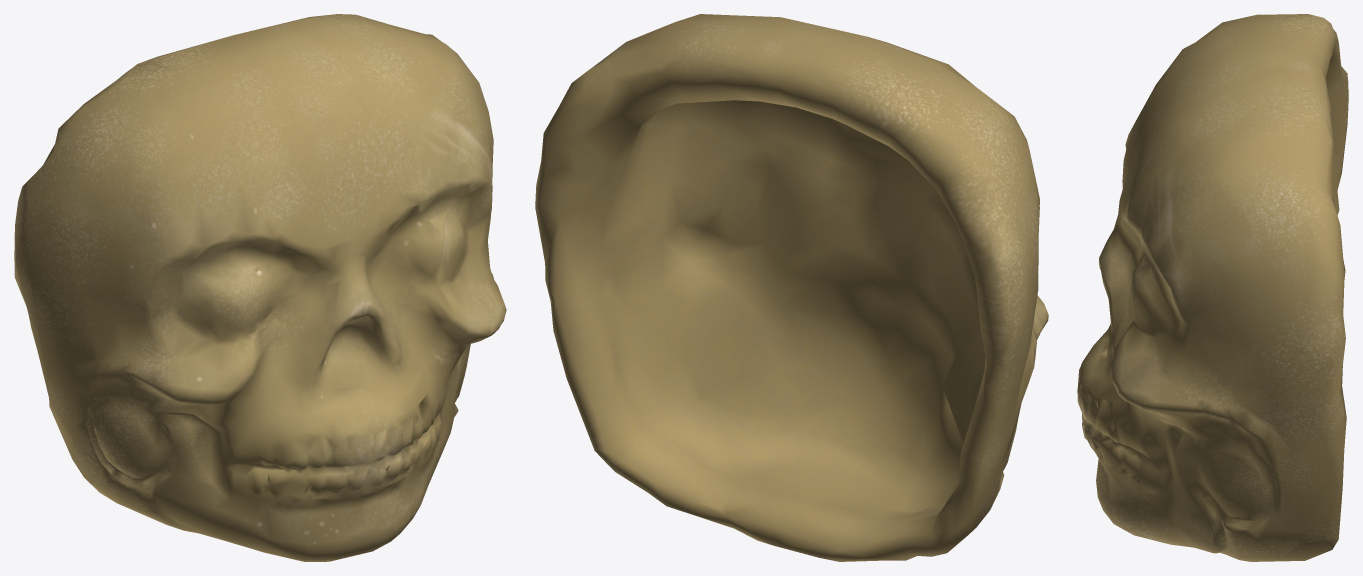
The model's file is MascaraCraneo.obj.
3 views of the same model, side by side, from view 1: azimuth 30°, elevation 25°; view 2: azimuth 150°, elevation 25°; view 3: azimuth 270°, elevation 25° (orthographic). The views are drawn at different scales.
Visible parts, largest first — view 1: MascaraCraneo; view 2: MascaraCraneo; view 3: MascaraCraneo.
Part boxes in pixels (x1,y1,x2,y2): MascaraCraneo: (14,14,506,561); MascaraCraneo: (535,14,1048,561); MascaraCraneo: (1077,14,1348,561).
Size of the model in its own units: 22.42 by 22.03 by 11.63.
Materials: 1 (1 with a texture image).
